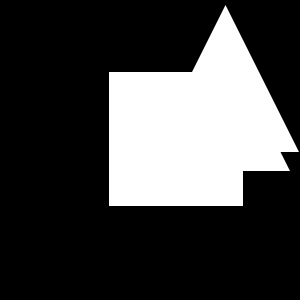circle: (109, 72, 243, 206)
triangle: (152, 5, 299, 152), (205, 86, 290, 171)
